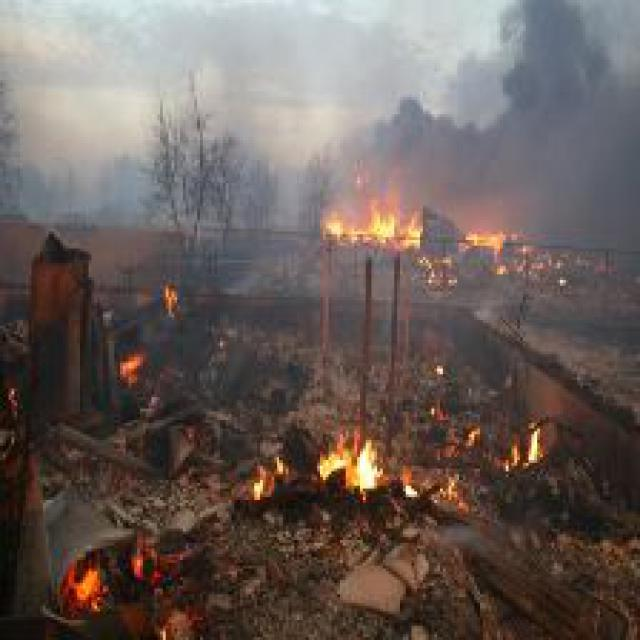fire: (294, 426, 392, 503), (326, 191, 426, 246), (457, 220, 520, 251)
